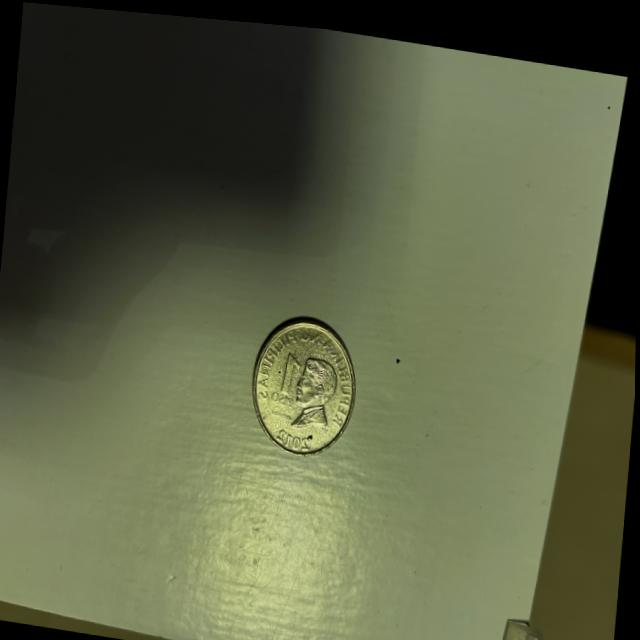1_Old_Front: (267, 341, 306, 403)
